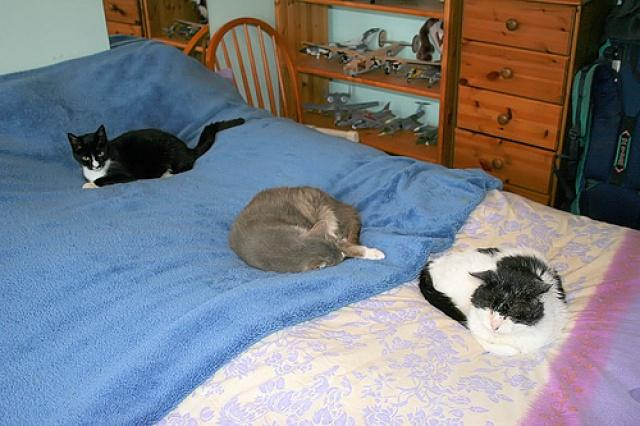Rak: (272, 0, 451, 165)
